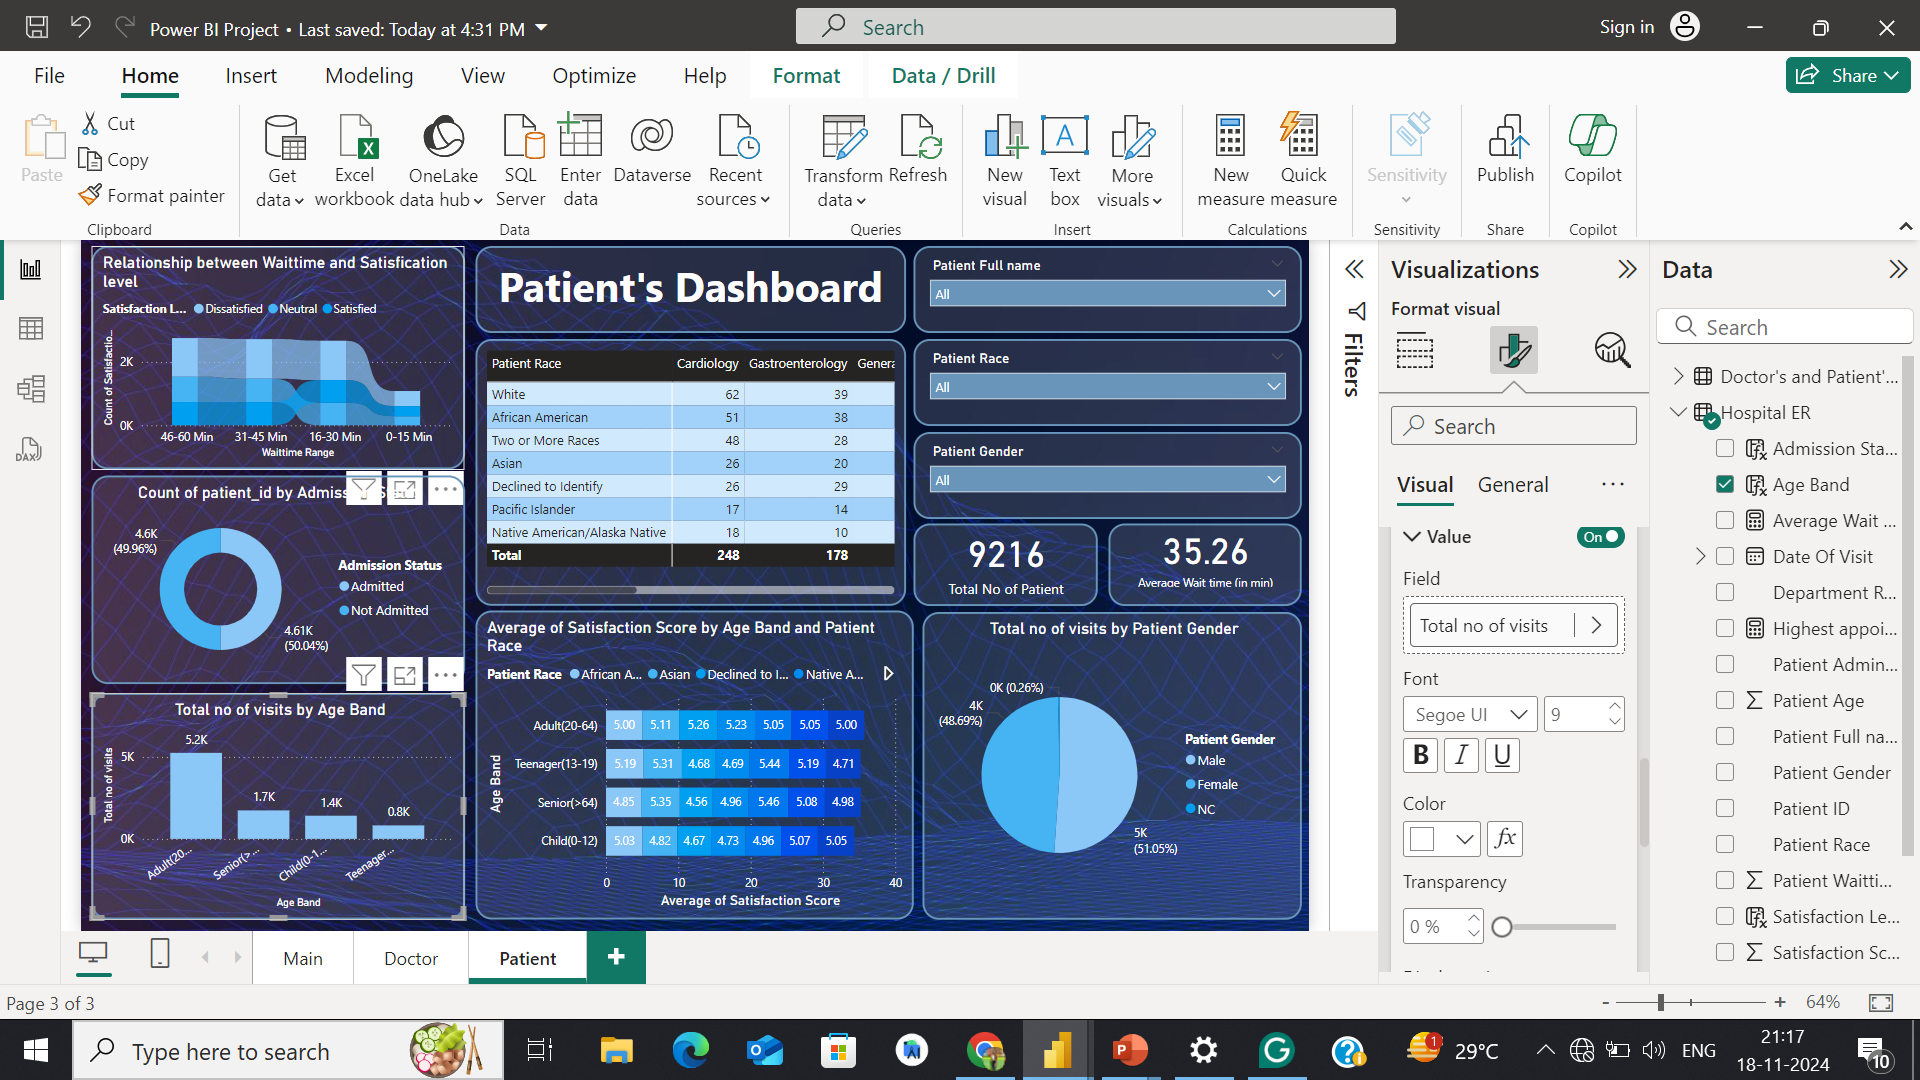

The dashboard page shown, as its layout file describes it:
{"tool":"powerbi","page":{"name":"Patient","canvas":[1280,720],"ordinal":2},"visuals":[{"type":"pieChart","fields":{"Category":["Hospital ER.Patient Gender"],"Y":["Hospital ER.Total no of visits"]},"box":[876.8,387.6,395.4,320.4],"z":0},{"type":"columnChart","fields":{"Category":["Hospital ER.Age Band"],"Y":["Hospital ER.Total no of visits"]},"box":[10.9,472,389.2,236],"z":1000},{"type":"barChart","fields":{"Category":["Hospital ER.Age Band"],"Y":["Hospital ER.Satisfaction Score"],"Series":["Hospital ER.Patient Race"]},"box":[411.1,386.1,456.4,322],"z":2000},{"type":"ribbonChart","title":"Relationship between Waittime and Satisfication level","fields":{"Y":["Hospital ER.Satisfaction Score"],"Category":["Hospital ER.Waittime Range"],"Series":["Hospital ER.Satisfaction Level"]},"box":[10.9,6.3,389.2,232.9],"z":3000},{"type":"pivotTable","fields":{"Rows":["Hospital ER.Patient Race"],"Columns":["Hospital ER.Department Referral"],"Values":["Hospital ER.Total no of visits"]},"box":[411.1,103.2,448.6,278.2],"z":4000},{"type":"textbox","box":[411.1,6.3,448.6,90.7],"z":5000},{"type":"slicer","fields":{"Values":["Hospital ER.Patient Full name"]},"box":[867.5,6.3,404.8,90.7],"z":6000},{"type":"slicer","fields":{"Values":["Hospital ER.Patient Race"]},"box":[867.5,103,404.8,90.7],"z":7000},{"type":"card","fields":{"Values":["Doctor's and Patient's data.Total No of Patient"]},"box":[867.5,296,192.2,86],"z":8000},{"type":"card","fields":{"Values":["Hospital ER.Average Wait time (in min)"]},"box":[1070.6,295.4,201.6,86],"z":9000},{"type":"slicer","fields":{"Values":["Hospital ER.Patient Gender"]},"box":[867.5,200,404.8,90.7],"z":10000},{"type":"donutChart","fields":{"Category":["Hospital ER.Admission Status"],"Y":["Doctor's and Patient's data.patient_id"]},"box":[10.9,245.4,389.2,217.3],"z":11000}]}

Visuals, with their boxes on the page's 1280x720 design canvas (x1, y1, x2, y2). These are canvas units, not pixel positions in the 1920x1080 screenshot, which may show the page scaled, cropped or inside an application window:
pieChart - Hospital ER.Patient Gender x Hospital ER.Total no of visits: BBox(877, 388, 1272, 708)
columnChart - Hospital ER.Age Band x Hospital ER.Total no of visits: BBox(11, 472, 400, 708)
barChart - Hospital ER.Age Band x Hospital ER.Satisfaction Score: BBox(411, 386, 868, 708)
"Relationship between Waittime and Satisfication level" ribbonChart: BBox(11, 6, 400, 239)
pivotTable - Hospital ER.Patient Race x Hospital ER.Department Referral: BBox(411, 103, 860, 381)
textbox: BBox(411, 6, 860, 97)
slicer - Hospital ER.Patient Full name: BBox(868, 6, 1272, 97)
slicer - Hospital ER.Patient Race: BBox(868, 103, 1272, 194)
card - Doctor's and Patient's data.Total No of Patient: BBox(868, 296, 1060, 382)
card - Hospital ER.Average Wait time (in min): BBox(1071, 295, 1272, 381)
slicer - Hospital ER.Patient Gender: BBox(868, 200, 1272, 291)
donutChart - Hospital ER.Admission Status x Doctor's and Patient's data.patient_id: BBox(11, 245, 400, 463)
